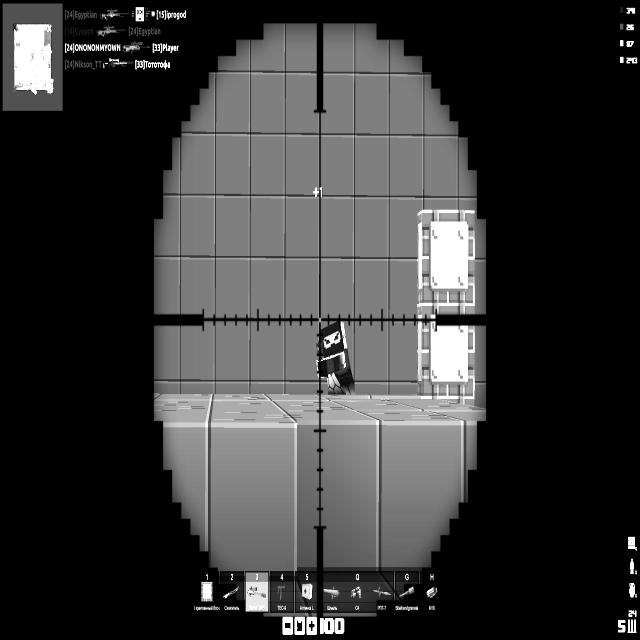Head: (320, 323, 347, 354)
Player: (316, 318, 355, 395)
